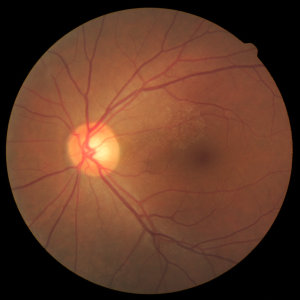retina_disease: (37, 103, 236, 214)
